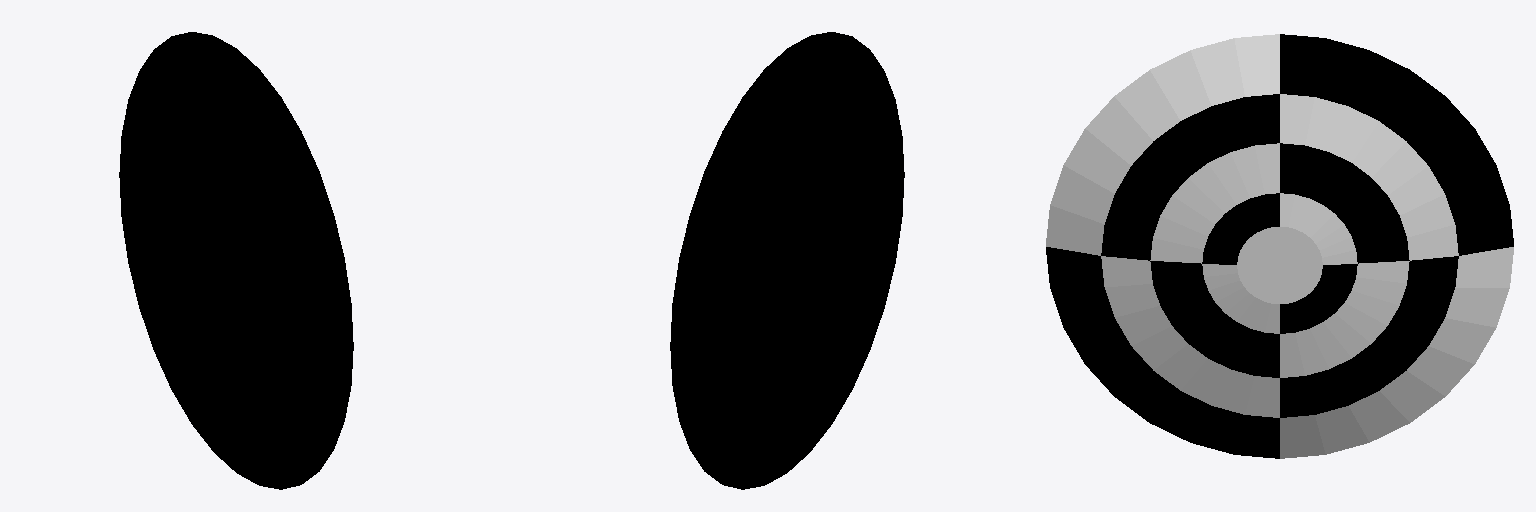
3 views of the same model, side by side, from view 1: azimuth 30°, elevation 25°; view 2: azimuth 150°, elevation 25°; view 3: azimuth 270°, elevation 25° (orthographic).
Parts seen in each view (by area): view 1: Cylinder; view 2: Cylinder; view 3: Cylinder.
Boxes of the visible parts, x1=… form: Cylinder: x1=119, y1=32, x2=353, y2=489; Cylinder: x1=670, y1=32, x2=904, y2=489; Cylinder: x1=1046, y1=34, x2=1513, y2=458.
Bounding box in the file's own units: 0.1917 × 2 × 2.
Materials: 1 (1 with a texture image).